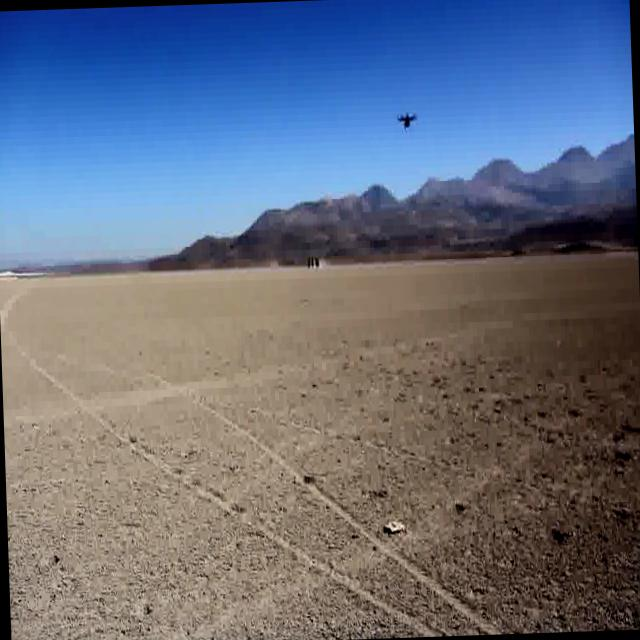drone: (392, 104, 418, 138)
